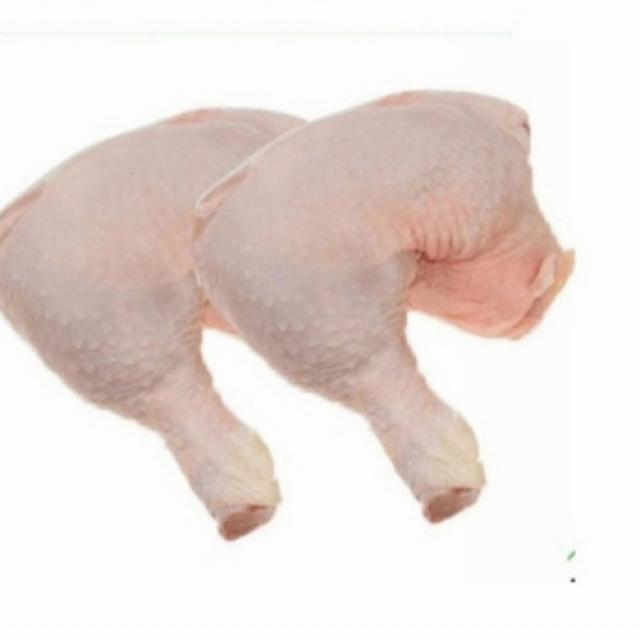chicken: (204, 90, 577, 522)
